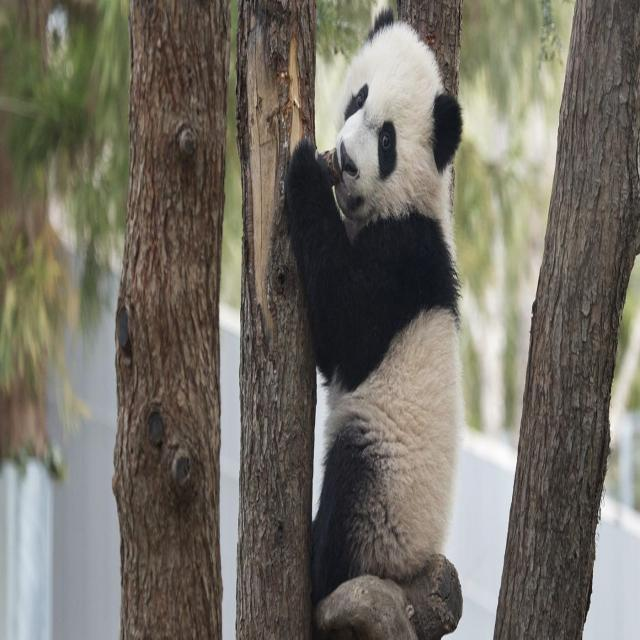Animals: (297, 0, 467, 452)
